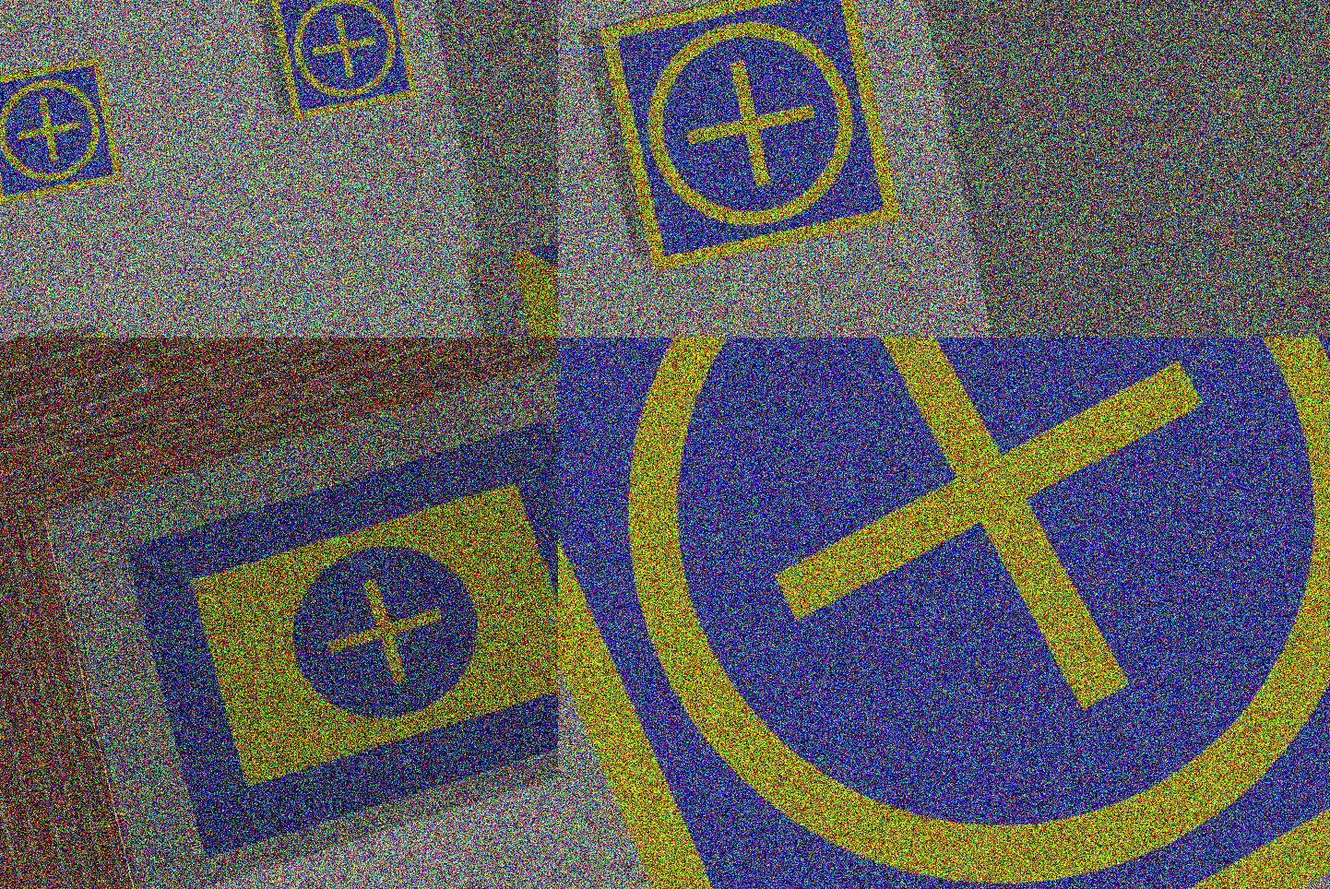large_base: (116, 411, 558, 864)
small_base: (558, 338, 1330, 889), (593, 1, 906, 273), (1, 56, 126, 210), (266, 1, 421, 124)
